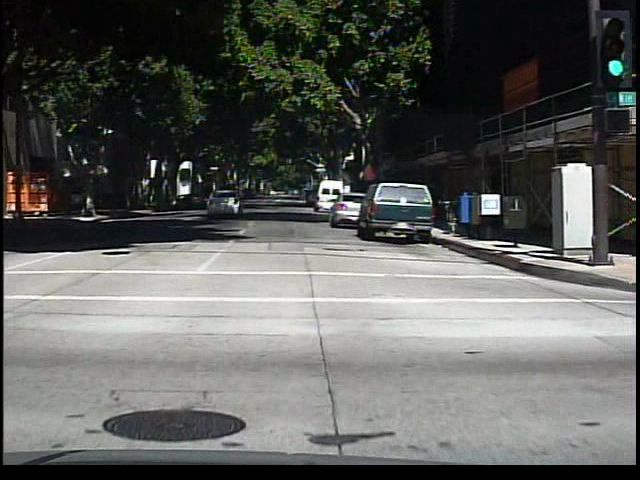person: (71, 184, 87, 219)
